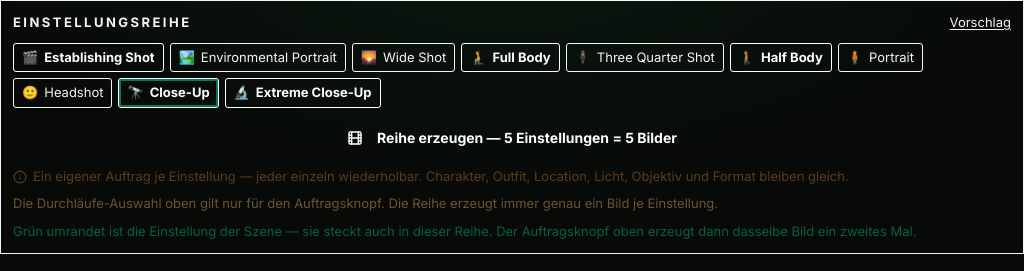
ReiheButton › meldet einen geworfenen Fehler MIT der Zahl der bezahlten Bilder
This screenshot has width=1024, height=271.
Click the button "Reihe erzeugen — 5 Einstellungen = 5 Bilder": (512, 138) [13,118,1011,158]
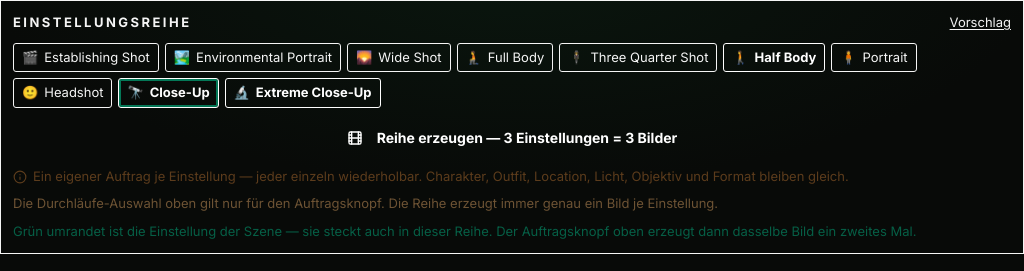
Now the button "Reihe erzeugen — 3 Einstellungen = 3 Bilder" is shown, box [13,118,1011,158]
